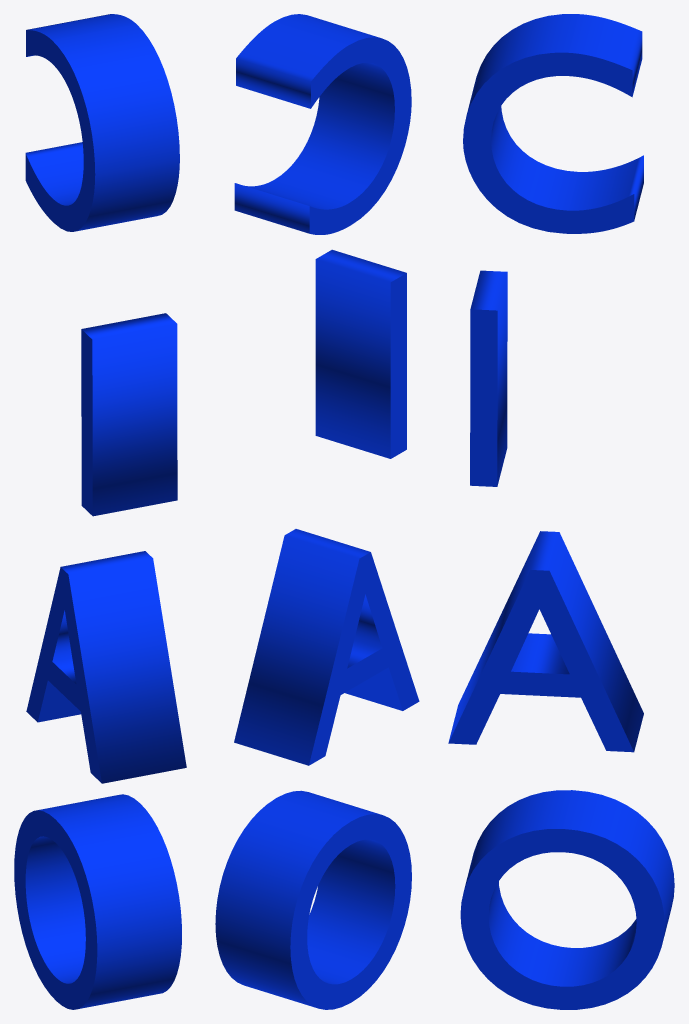
Rendered from CIAO.fbx.
The picture shows the model from 3 angles, left to right: view 1: azimuth 30°, elevation 25°; view 2: azimuth 150°, elevation 25°; view 3: azimuth 270°, elevation 25°; orthographic projection.
Visible parts, largest first — view 1: CIAO_LOD0; view 2: CIAO_LOD0; view 3: CIAO_LOD0.
Part boxes in pixels (x1,y1,x2,y2): CIAO_LOD0: (14, 14, 186, 1009); CIAO_LOD0: (215, 14, 419, 1009); CIAO_LOD0: (448, 14, 674, 1009).
Size of what is drawn, in the model's own units: 51.4 by 469 by 101.
